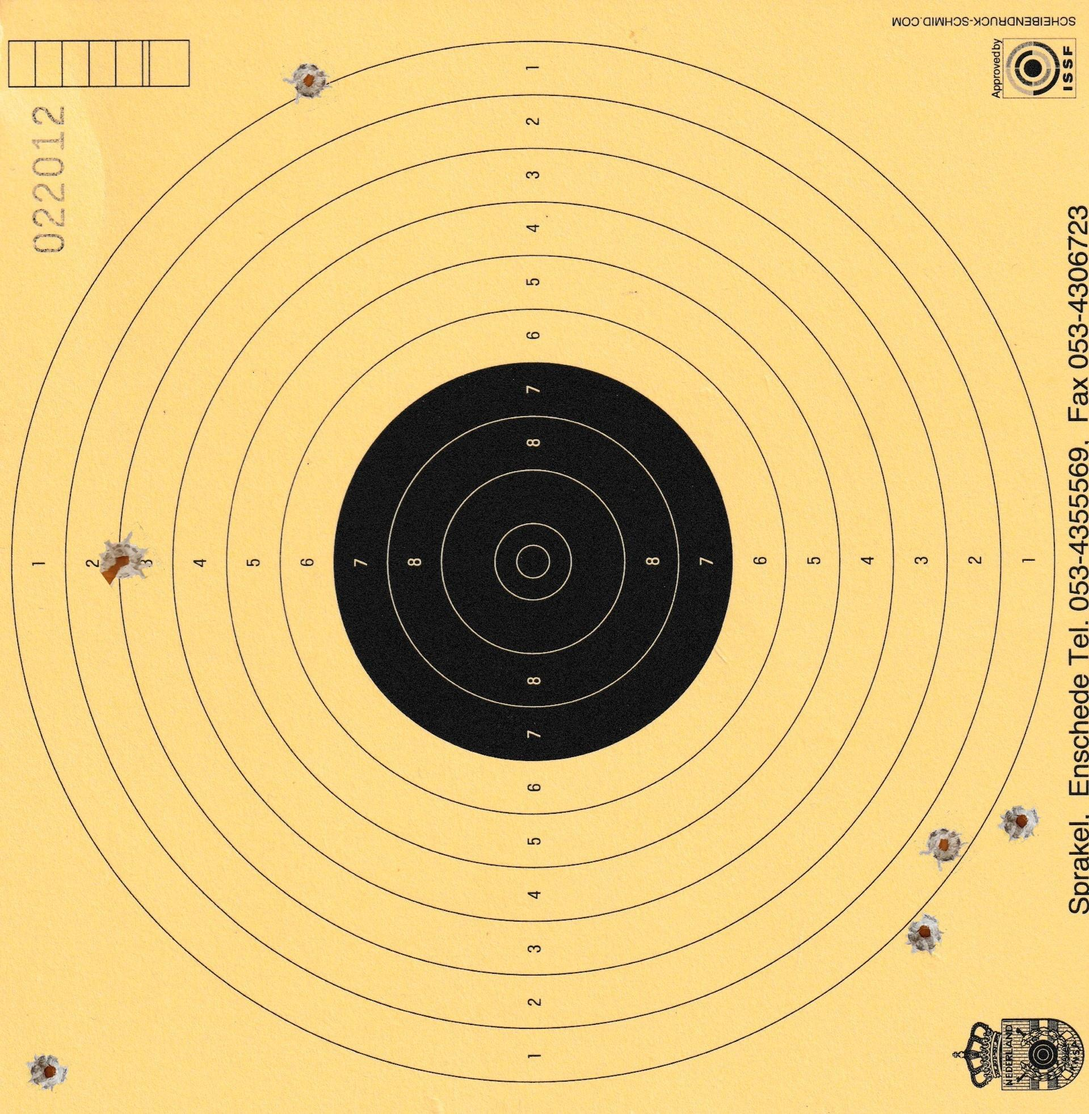hole: (96, 531, 153, 587), (282, 62, 334, 106), (919, 827, 970, 871), (25, 1051, 72, 1096), (903, 912, 946, 957), (998, 804, 1042, 843)
